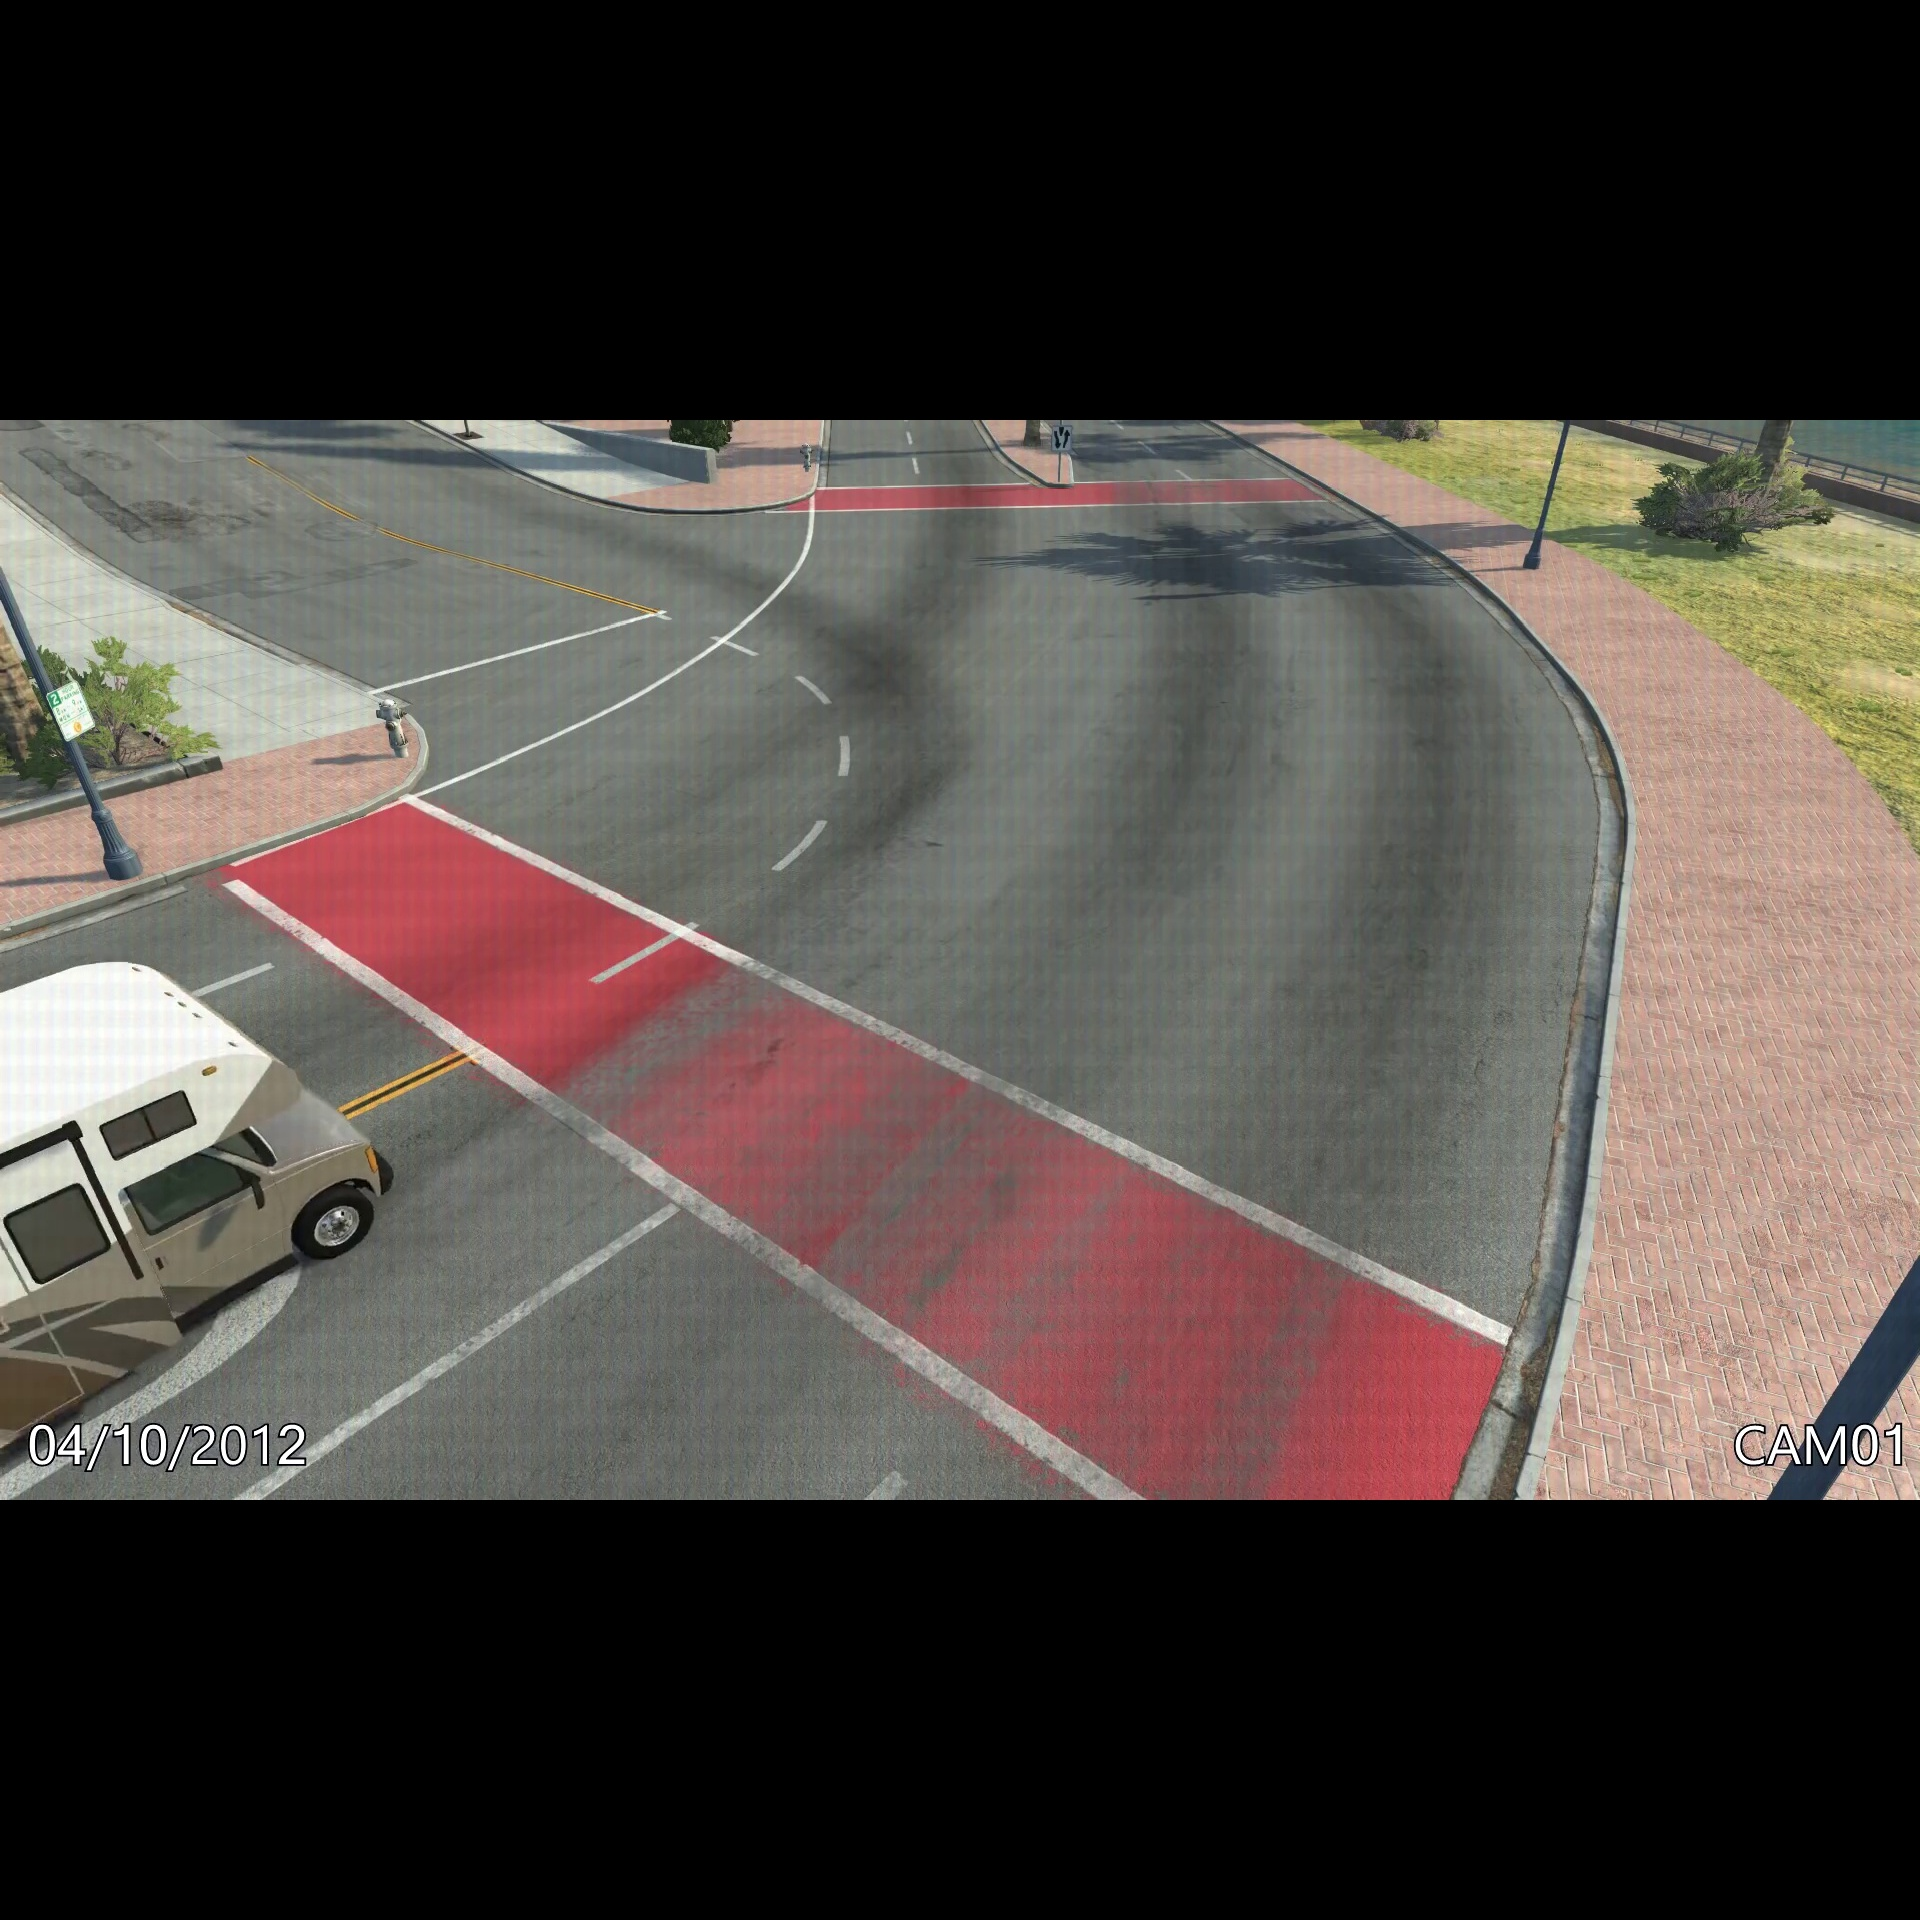vehicle: (2, 953, 410, 1473)
